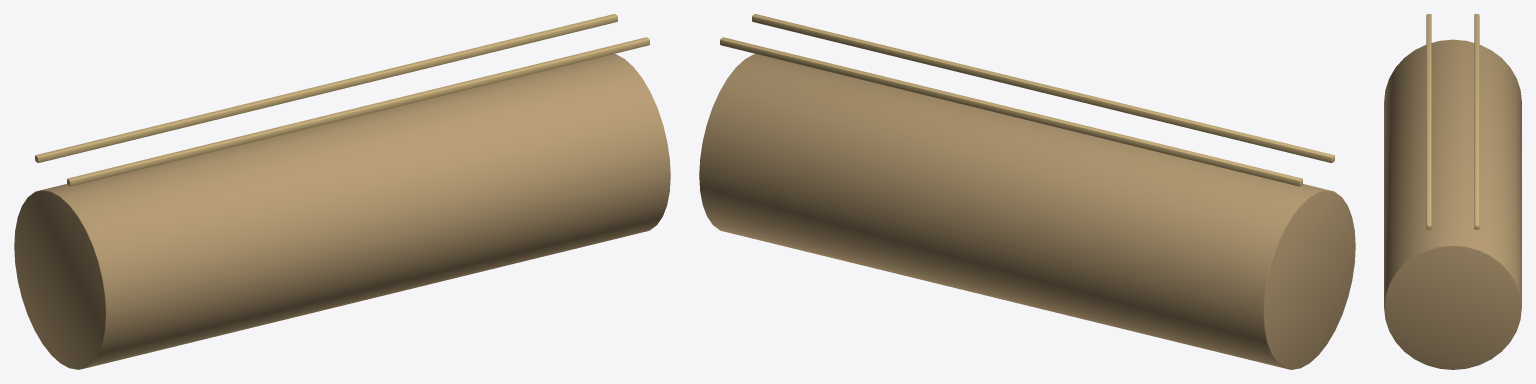
Rendered from cryptex_core.glb.
The picture shows the model from 3 angles, left to right: view 1: azimuth 30°, elevation 25°; view 2: azimuth 150°, elevation 25°; view 3: azimuth 270°, elevation 25°; orthographic projection. The views are drawn at different scales.
Parts seen in each view (by area): view 1: cryptex_core; view 2: cryptex_core; view 3: cryptex_core.
Part boxes in pixels (x1,y1,x2,y2): cryptex_core: (14, 14, 670, 369); cryptex_core: (699, 14, 1355, 369); cryptex_core: (1384, 14, 1521, 369).
Size of the model in its own units: 0.378 by 0.123 by 0.104.
